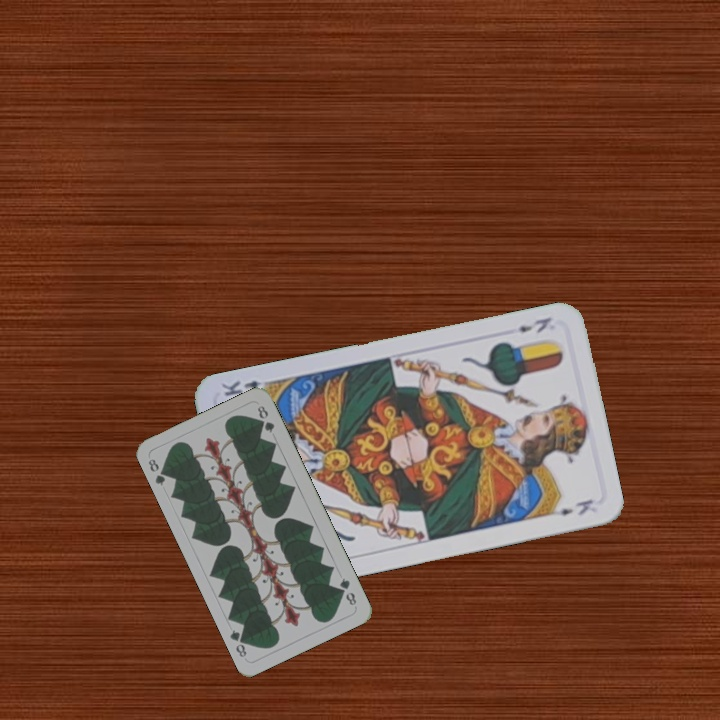EK: (514, 313, 554, 336)
G8: (144, 455, 171, 488), (335, 574, 359, 608)
